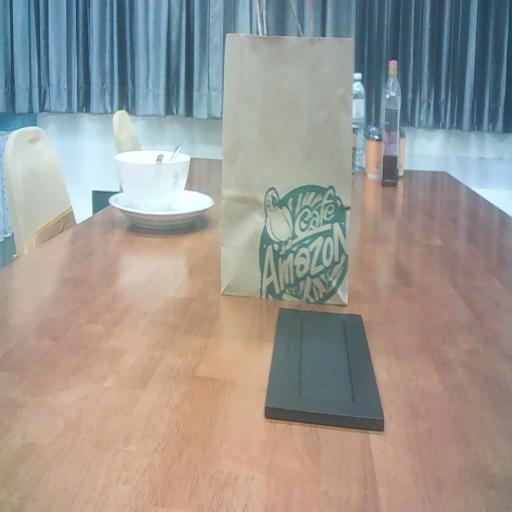bag: (221, 26, 360, 316)
